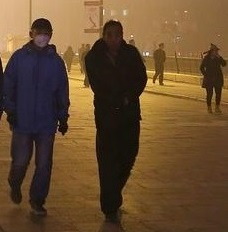person: (4, 18, 71, 217), (84, 19, 148, 220), (198, 43, 225, 114), (152, 43, 167, 85)
